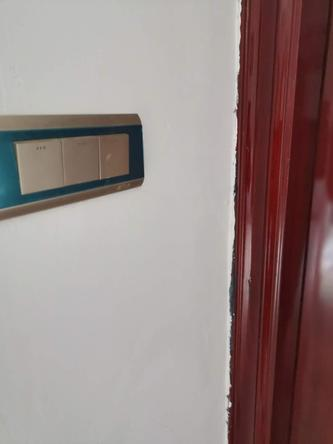switch: (13, 134, 66, 197), (60, 132, 103, 188), (99, 130, 133, 181)
